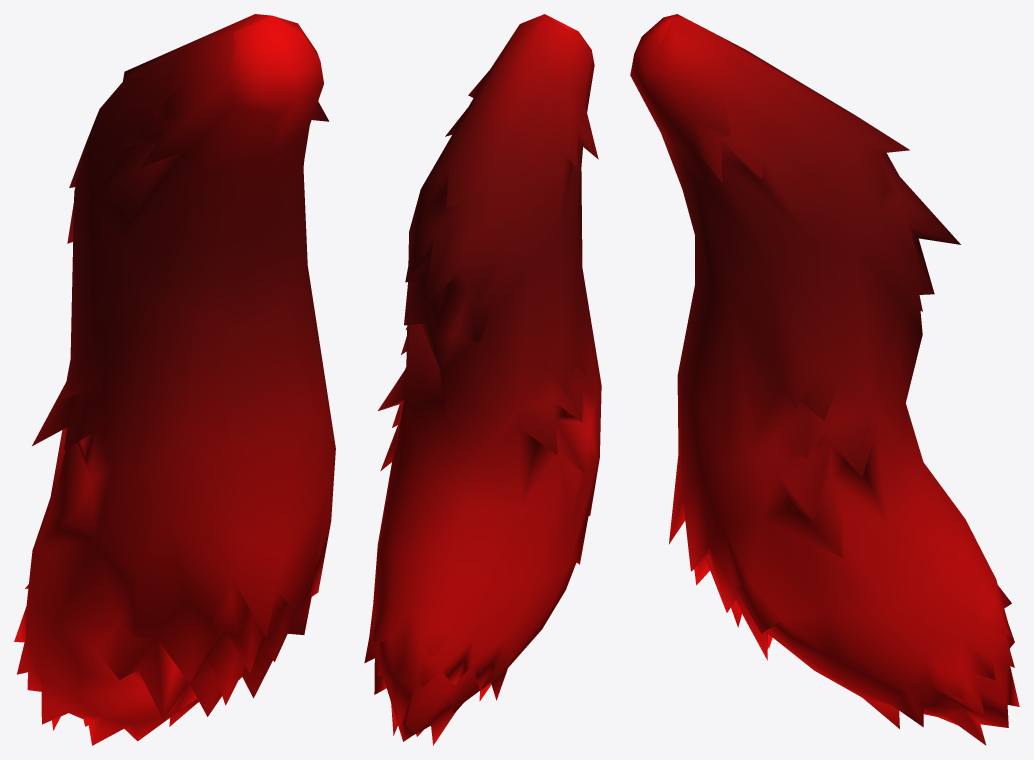
The model's file is Tail.fbx.
3 renders of one model, left to right at view 1: azimuth 30°, elevation 25°; view 2: azimuth 150°, elevation 25°; view 3: azimuth 270°, elevation 25°, orthographic. The views are drawn at different scales.
Visible parts, largest first — view 1: Body.001; view 2: Body.001; view 3: Body.001.
Boxes of the visible parts, <box> form: Body.001: <box>14,14,335,745</box>; Body.001: <box>364,14,601,745</box>; Body.001: <box>630,14,1019,745</box>.
Size of the model in its own units: 20.3 by 62.74 by 30.84.
1 material, 1 textured.
